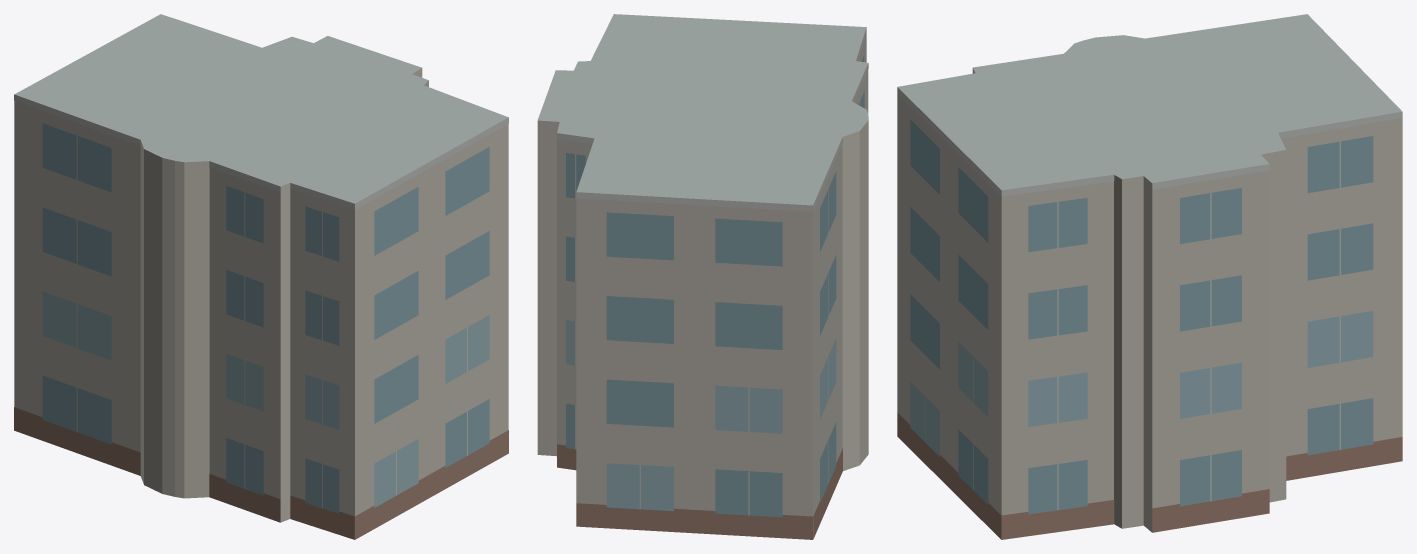
The model's file is survey-upis-32866934.glb.
The picture shows the model from 3 angles, left to right: view 1: azimuth 30°, elevation 25°; view 2: azimuth 150°, elevation 25°; view 3: azimuth 270°, elevation 25°; orthographic projection. The views are drawn at different scales.
Parts seen in each view (by area): view 1: survey-upis-32866934.tmp; view 2: survey-upis-32866934.tmp; view 3: survey-upis-32866934.tmp.
Part boxes in pixels (left/top/right/bottom): survey-upis-32866934.tmp: left=14, top=14, right=508, bottom=539; survey-upis-32866934.tmp: left=537, top=14, right=868, bottom=539; survey-upis-32866934.tmp: left=897, top=14, right=1402, bottom=539.
Size of the model in its own units: 14.29 by 13.2 by 17.3.
